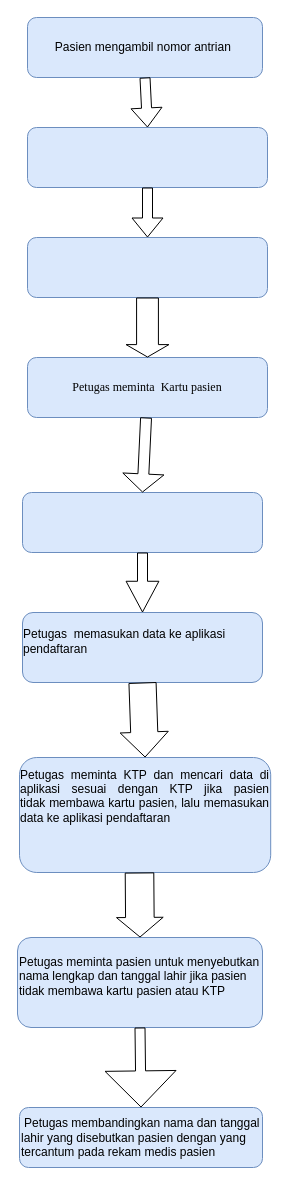
The diagram is 289 pixels wide and 1185 high, and some of its shapes have lost their labels. The shapes that lost their labels are listed below. From the top down, each one's centre as x and y in pixels, then its label:
the point at 147,157: Pasien duduk menunggu antrian
the point at 147,267: Petugas Pendaftran memanggil nomor urut antrian
the point at 142,522: Petugas meminta kartu BPJS jika ada
